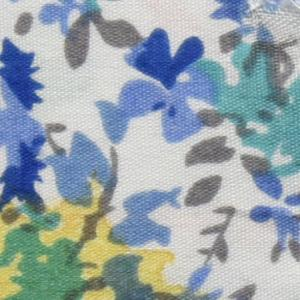Damage: (234, 1, 300, 60)
Oil Stain: (1, 166, 204, 300)
